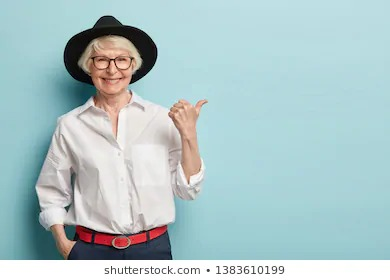F_belt: (78, 226, 168, 243)
F_shirt: (29, 81, 210, 232)
